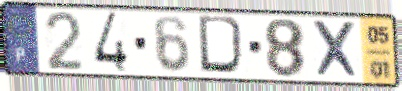2: (42, 9, 86, 72)
4: (90, 10, 133, 75)
6: (152, 15, 192, 75)
8: (262, 16, 310, 80)
D: (196, 13, 250, 78)
X: (309, 19, 363, 81)
